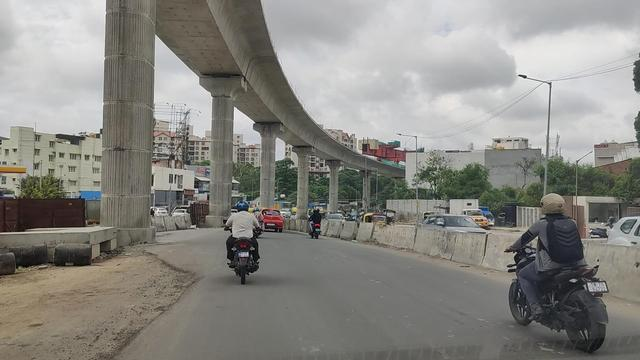LMV: (509, 197, 610, 345), (223, 201, 260, 284), (307, 208, 321, 239)
RoadDamages: (96, 307, 173, 360), (140, 248, 206, 304)
UnsurfacedRoad: (0, 275, 97, 359)
